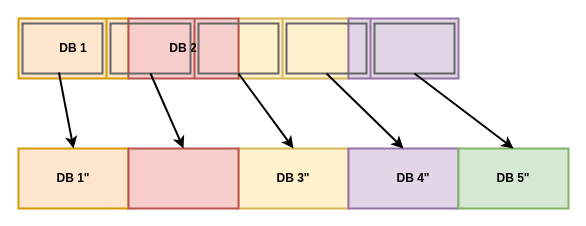
This 586x226 diagram has some shape labels left out. The centre of each missing label's shape, as x and y in pixels:
DB 2": (183,178)
DB 3: (326,48)
DB 4: (414,48)
